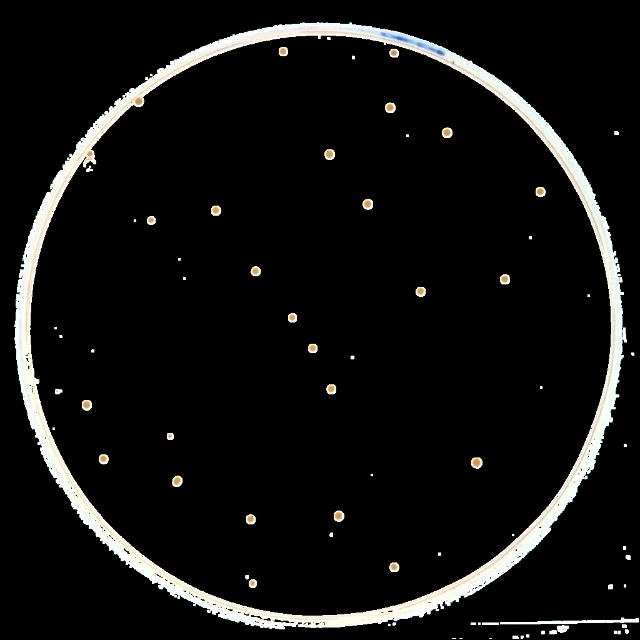colony: (438, 124, 457, 142), (469, 454, 486, 472), (78, 395, 95, 413), (248, 263, 264, 281), (360, 196, 376, 214), (414, 284, 428, 300), (384, 100, 398, 116), (322, 148, 336, 162), (498, 272, 512, 286), (332, 509, 346, 523), (243, 512, 257, 526), (163, 429, 177, 443), (97, 452, 111, 466), (146, 214, 158, 230), (132, 95, 146, 108), (170, 473, 183, 487), (210, 205, 222, 219), (286, 311, 298, 325), (306, 342, 320, 354), (534, 185, 546, 199), (388, 560, 400, 574), (248, 578, 258, 590), (53, 387, 65, 397), (83, 150, 97, 158)
